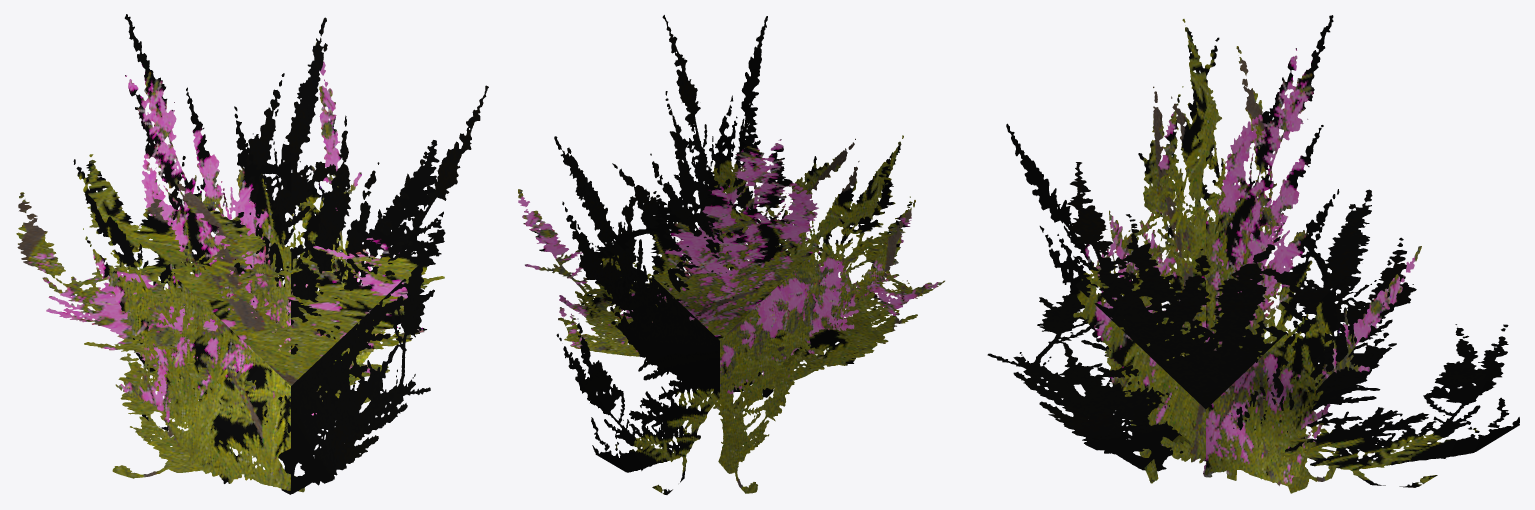
Rendered from heather_03_LOD0.fbx.
The picture shows the model from 3 angles, left to right: view 1: azimuth 30°, elevation 25°; view 2: azimuth 150°, elevation 25°; view 3: azimuth 270°, elevation 25°; orthographic projection. The views are drawn at different scales.
Visible parts, largest first — view 1: heather_03_LOD0; view 2: heather_03_LOD0; view 3: heather_03_LOD0.
Boxes of the visible parts, <box> form: heather_03_LOD0: <box>16,14,488,494</box>; heather_03_LOD0: <box>518,15,944,494</box>; heather_03_LOD0: <box>987,15,1519,493</box>.
Bounding box in the file's own units: 85.83 × 92.38 × 98.07.
